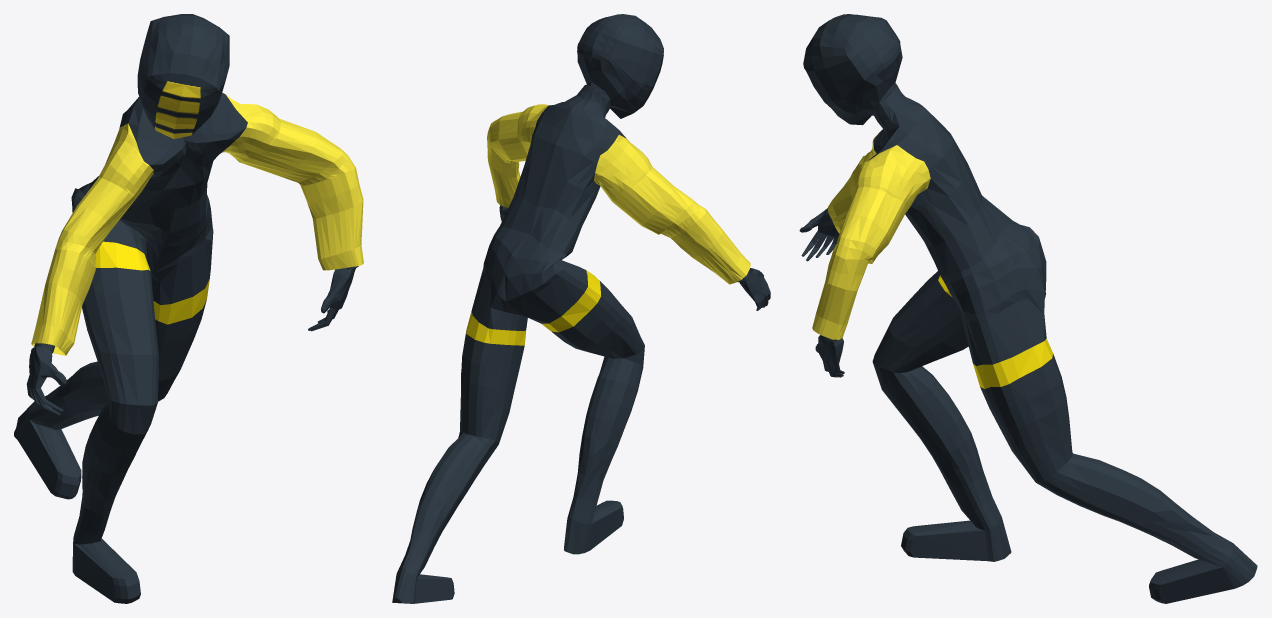
Rendered from Sentry_Die_000004.obj.
3 renders of one model, left to right at view 1: azimuth 30°, elevation 25°; view 2: azimuth 150°, elevation 25°; view 3: azimuth 270°, elevation 25°, orthographic. The views are drawn at different scales.
Parts seen in each view (by area): view 1: Cube; view 2: Cube; view 3: Cube.
Part boxes in pixels (<box>): Cube: <box>14,14,363,603</box>; Cube: <box>392,14,770,603</box>; Cube: <box>799,14,1257,603</box>.
Bounding box in the file's own units: 1.84 × 3.19 × 2.37.
